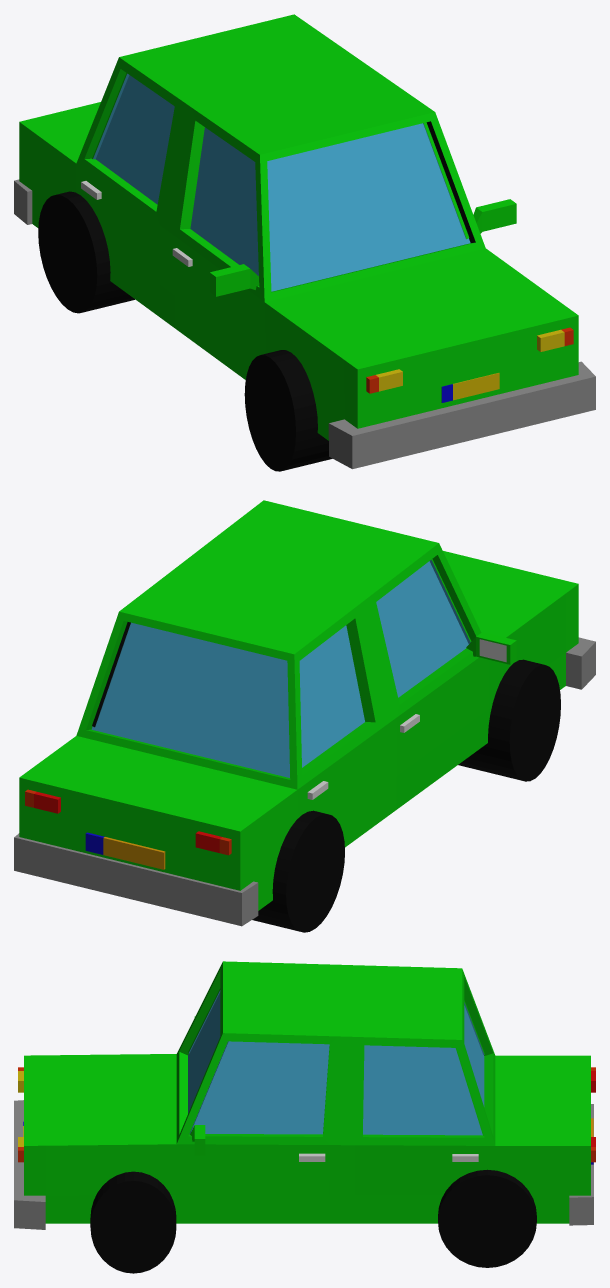
The model's file is Car1_Groen.obj.
3 views of the same model, one above another, from view 1: azimuth 30°, elevation 25°; view 2: azimuth 150°, elevation 25°; view 3: azimuth 270°, elevation 25° (orthographic). The views are drawn at different scales.
Parts seen in each view (by area): view 1: Car.005_Cube.005, Cylinder.020_Cylinder.021, Cylinder.021_Cylinder.022, Kubus.040, Kubus.046, Kubus.041; view 2: Car.005_Cube.005, Cylinder.020_Cylinder.021, Cylinder.021_Cylinder.022, Kubus.045, Kubus.047, Kubus.040; view 3: Car.005_Cube.005, Cylinder.021_Cylinder.022, Cylinder.020_Cylinder.021.
Part boxes in pixels (x1=…): Car.005_Cube.005: x1=14, y1=14, x2=595, y2=469; Cylinder.020_Cylinder.021: x1=244, y1=350, x2=332, y2=471; Cylinder.021_Cylinder.022: x1=38, y1=191, x2=134, y2=313; Kubus.040: x1=209, y1=199, x2=516, y2=296; Kubus.046: x1=366, y1=327, x2=573, y2=393; Kubus.041: x1=441, y1=373, x2=499, y2=402; Car.005_Cube.005: x1=14, y1=500, x2=595, y2=926; Cylinder.020_Cylinder.021: x1=458, y1=659, x2=560, y2=781; Cylinder.021_Cylinder.022: x1=252, y1=810, x2=344, y2=932; Kubus.045: x1=85, y1=832, x2=165, y2=869; Kubus.047: x1=25, y1=789, x2=231, y2=855; Kubus.040: x1=466, y1=632, x2=516, y2=664; Car.005_Cube.005: x1=14, y1=961, x2=593, y2=1229; Cylinder.021_Cylinder.022: x1=438, y1=1169, x2=536, y2=1267; Cylinder.020_Cylinder.021: x1=90, y1=1171, x2=176, y2=1273.
Size of the model in its own units: 4.87 by 4.09 by 9.75.
